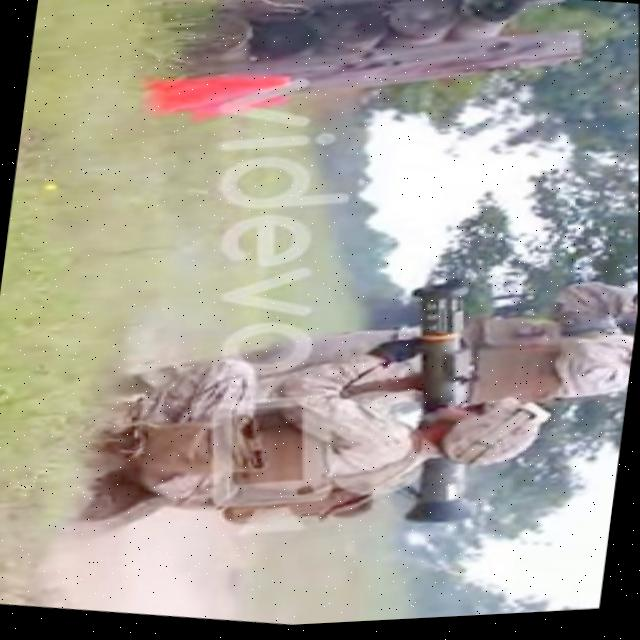rocket: (376, 275, 515, 536)
